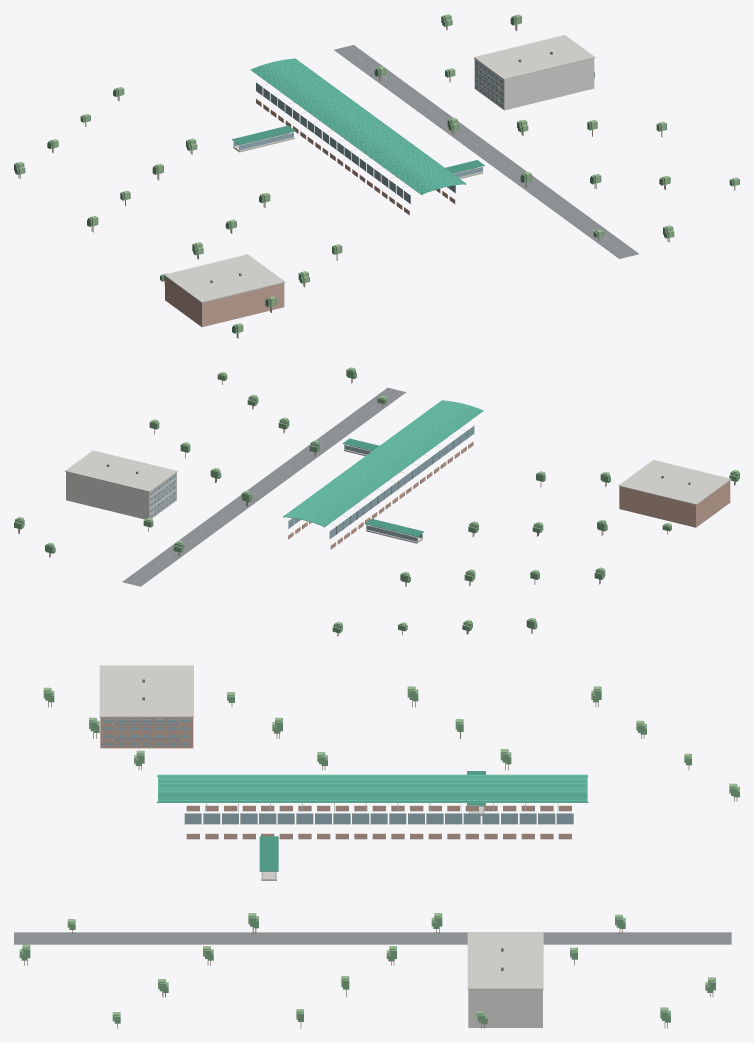
The picture shows the model from 3 angles, top to bottom: view 1: azimuth 30°, elevation 25°; view 2: azimuth 150°, elevation 25°; view 3: azimuth 270°, elevation 25°; orthographic projection. The views are drawn at different scales.
Parts seen in each view (by area): view 1: Station 12 photo-informed architecture and surroundings; view 2: Station 12 photo-informed architecture and surroundings; view 3: Station 12 photo-informed architecture and surroundings.
Part boxes in pixels (left/top/right/bottom): Station 12 photo-informed architecture and surroundings: left=14, top=14, right=739, bottom=338; Station 12 photo-informed architecture and surroundings: left=14, top=367, right=739, bottom=636; Station 12 photo-informed architecture and surroundings: left=14, top=665, right=739, bottom=1028.
Bounding box in the file's own units: 297 × 30.69 × 273.
